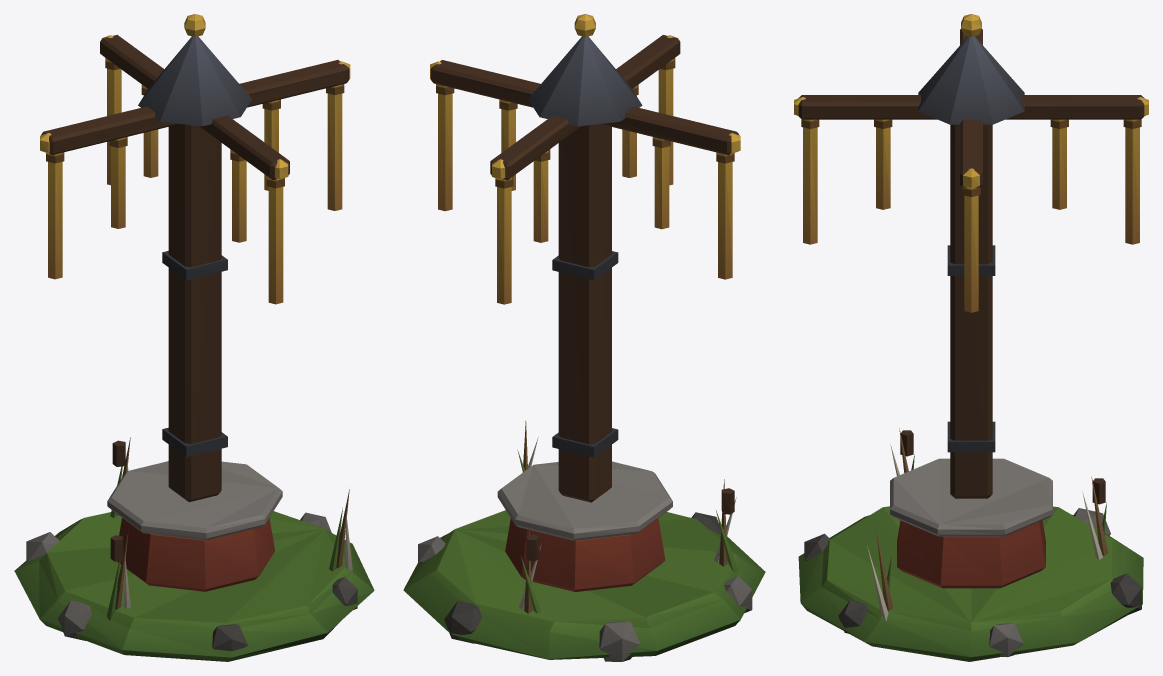
The model's file is long_chime.glb.
3 renders of one model, left to right at view 1: azimuth 30°, elevation 25°; view 2: azimuth 150°, elevation 25°; view 3: azimuth 270°, elevation 25°, orthographic.
Parts seen in each view (by area): view 1: long_chime; view 2: long_chime; view 3: long_chime.
Boxes of the visible parts, x1,y1,x2,y2 form: long_chime: (14, 14, 374, 661); long_chime: (403, 14, 765, 661); long_chime: (794, 14, 1148, 661).
Size of the model in its own units: 0.9387 by 1.67 by 0.925.
